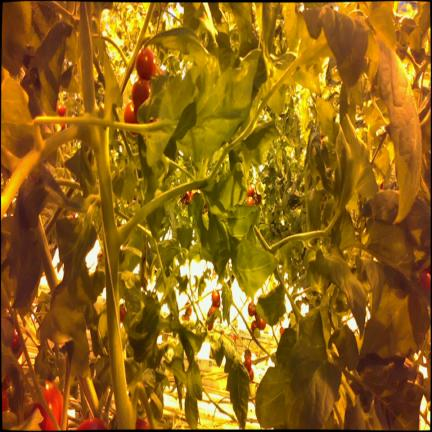MainStem: (90, 125, 135, 428), (120, 1, 156, 93), (80, 0, 96, 112)
tomato: (32, 381, 63, 430), (136, 47, 156, 79), (132, 78, 149, 110), (124, 102, 137, 122), (419, 270, 430, 290), (212, 290, 220, 307), (257, 317, 266, 330), (248, 302, 256, 316), (120, 305, 126, 322), (251, 321, 257, 332), (246, 196, 253, 204), (279, 326, 284, 335)
